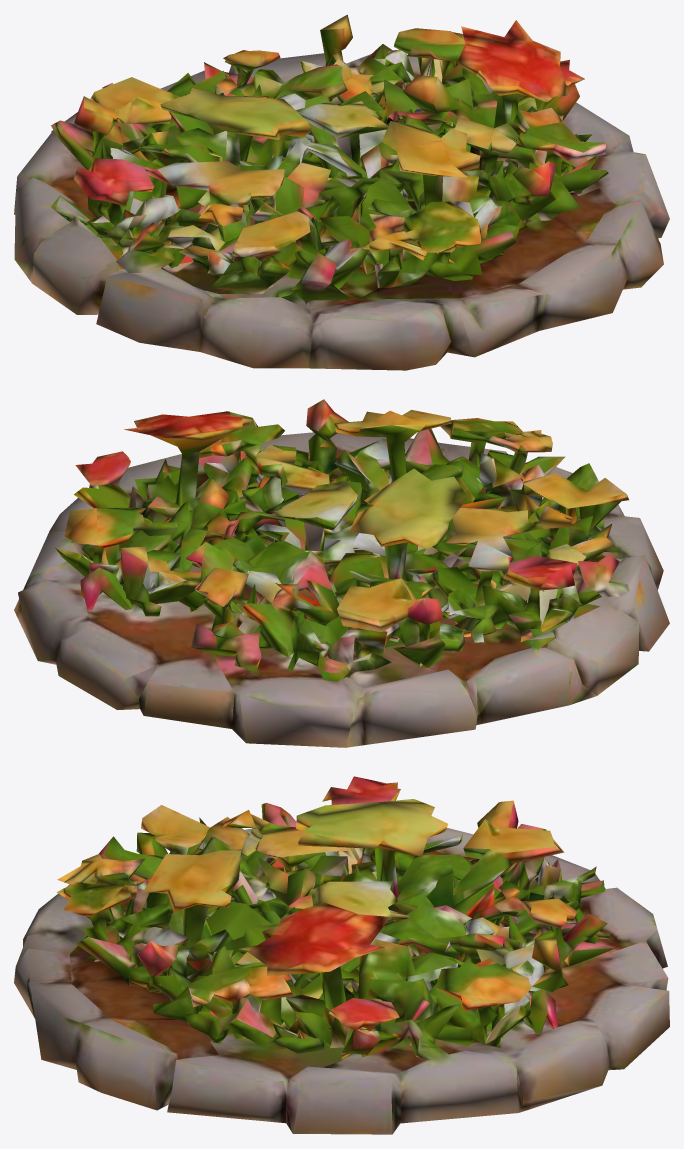
The model's file is flower_bed.glb.
The picture shows the model from 3 angles, top to bottom: view 1: azimuth 30°, elevation 25°; view 2: azimuth 150°, elevation 25°; view 3: azimuth 270°, elevation 25°; orthographic projection.
Parts seen in each view (by area): view 1: textured_mesh.obj; view 2: textured_mesh.obj; view 3: textured_mesh.obj.
Boxes of the visible parts, left/top/right/bottom form: textured_mesh.obj: left=14, top=14, right=669, bottom=370; textured_mesh.obj: left=14, top=399, right=669, bottom=747; textured_mesh.obj: left=14, top=776, right=669, bottom=1134.
Size of what is drawn, in the model's own units: 1.16 by 0.3048 by 1.18.
Materials: 1 (1 with a texture image).
